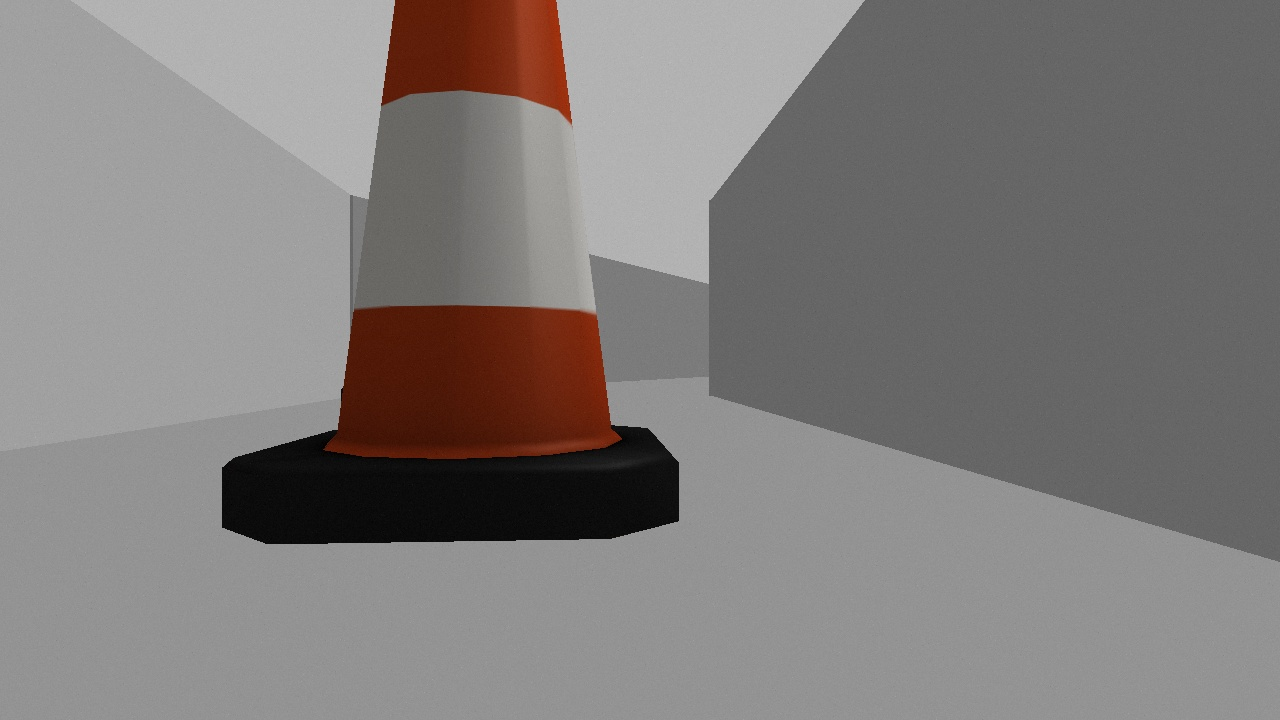barricade: (221, 1, 678, 544)
